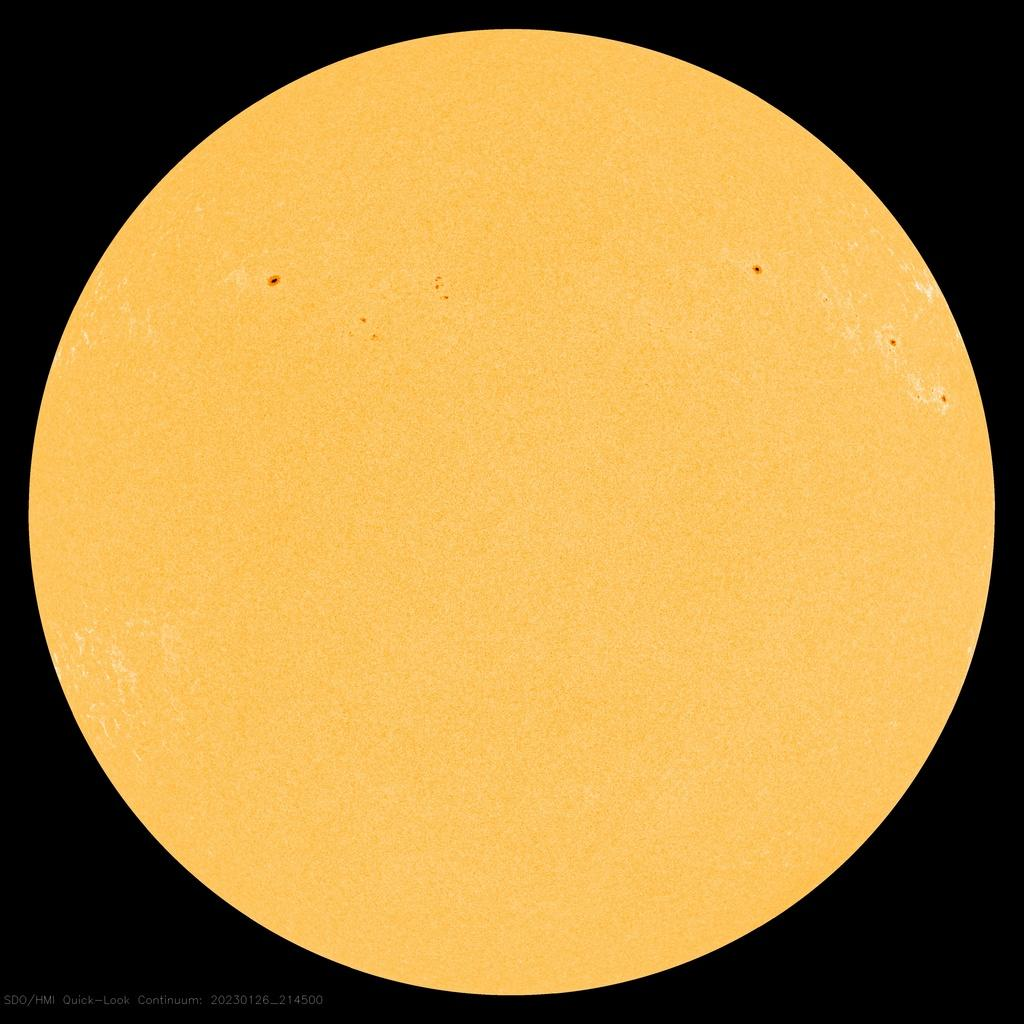flare: (342, 267, 458, 348), (881, 325, 956, 415), (258, 257, 288, 299), (741, 254, 775, 288)
